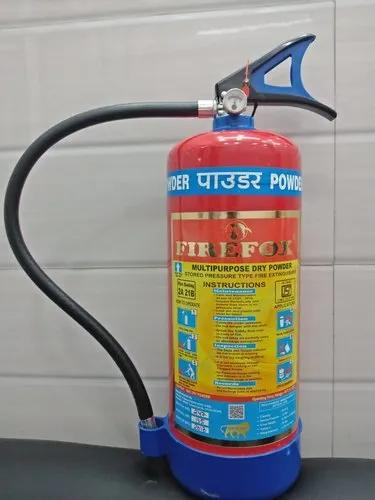floor-kept: (2, 16, 348, 500)
